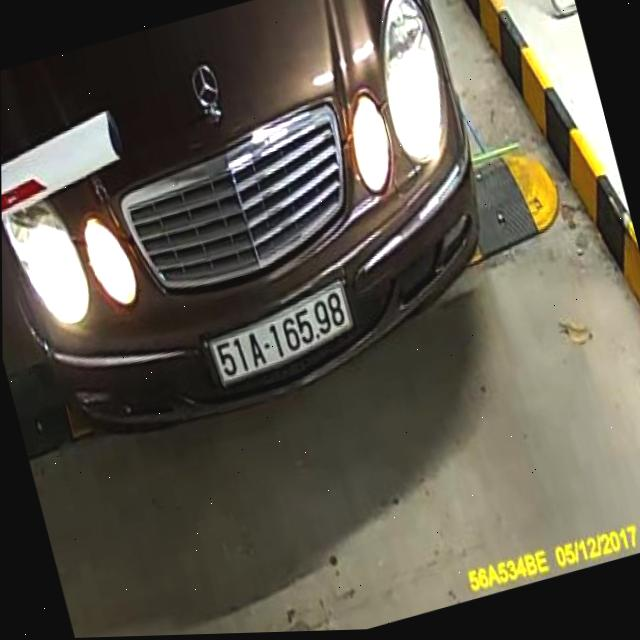car: (0, 0, 539, 486)
plate: (205, 283, 363, 384)
